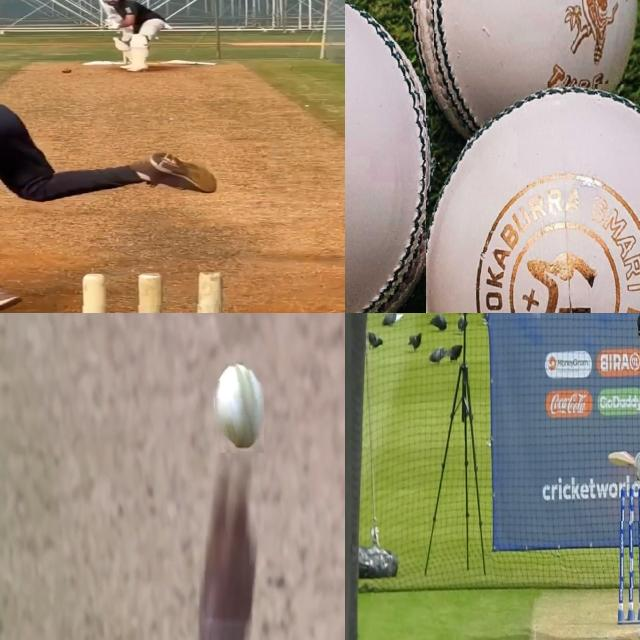Cricket ball: (425, 84, 640, 313), (345, 0, 434, 313), (411, 0, 640, 104), (212, 356, 264, 454), (61, 67, 73, 74)
Stumps: (81, 272, 221, 313), (618, 487, 640, 626)
